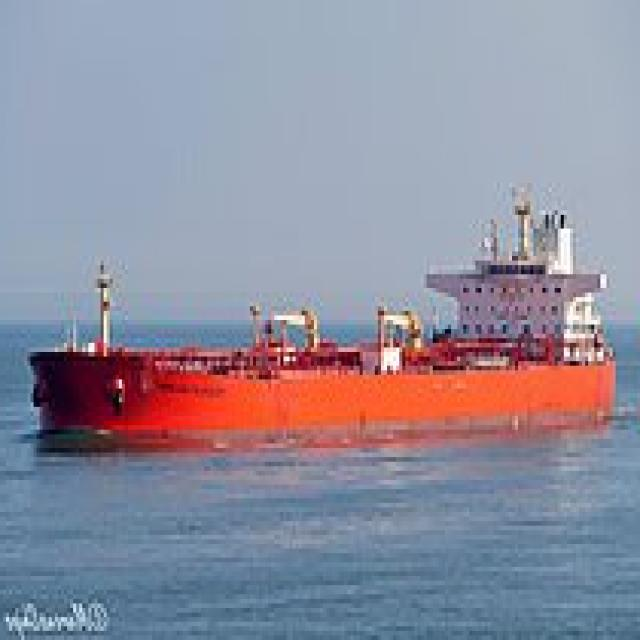Tanker: (27, 178, 625, 444)
